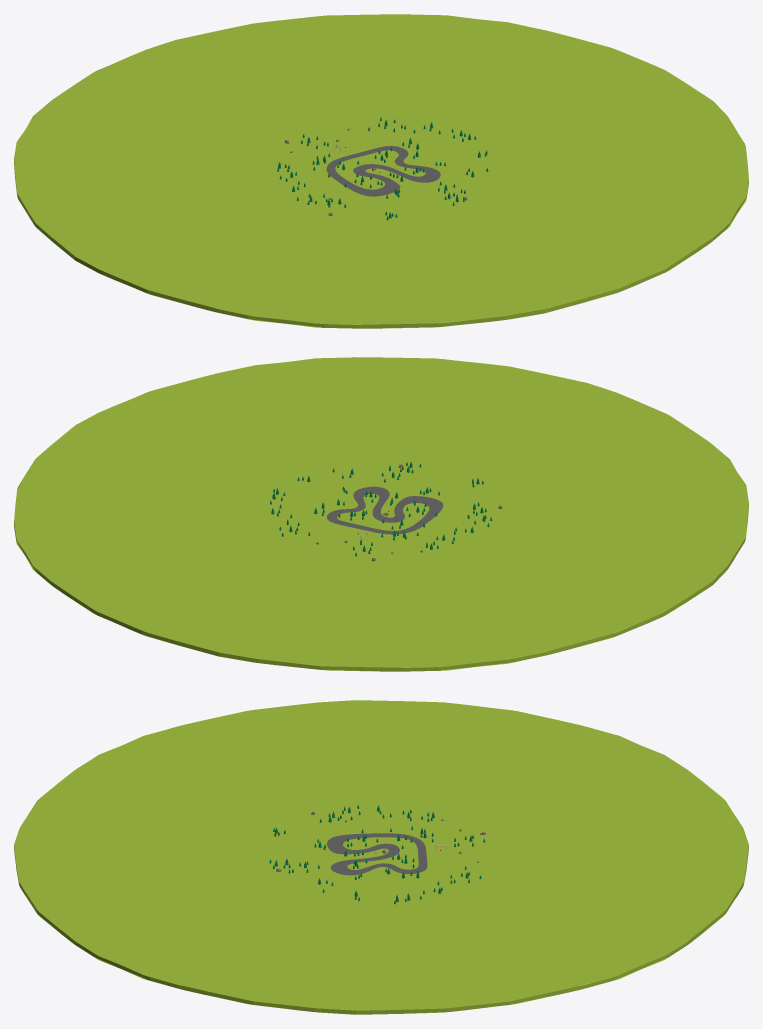
The model's file is map4.fbx.
3 renders of one model, top to bottom at view 1: azimuth 30°, elevation 25°; view 2: azimuth 150°, elevation 25°; view 3: azimuth 270°, elevation 25°, orthographic.
Parts seen in each view (by area): view 1: Cylinder, Curve; view 2: Cylinder, Curve; view 3: Cylinder, Curve.
Boxes of the visible parts, left/top/right/bottom form: Cylinder: left=14, top=14, right=748, bottom=328; Curve: left=326, top=146, right=440, bottom=196; Cylinder: left=14, top=357, right=748, bottom=671; Curve: left=327, top=486, right=443, bottom=534; Cylinder: left=14, top=700, right=748, bottom=1014; Curve: left=327, top=833, right=427, bottom=875.
Bounding box in the file's own units: 862 × 862 × 14.28.
